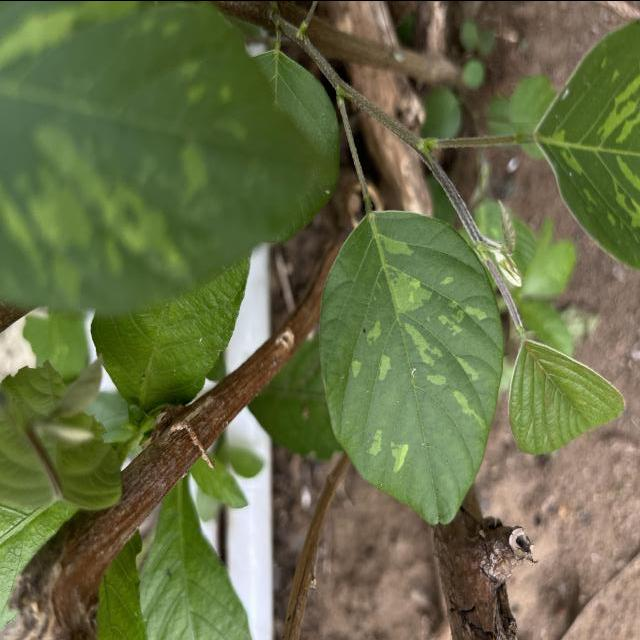Desmodium gangeticum: (316, 207, 507, 527)
